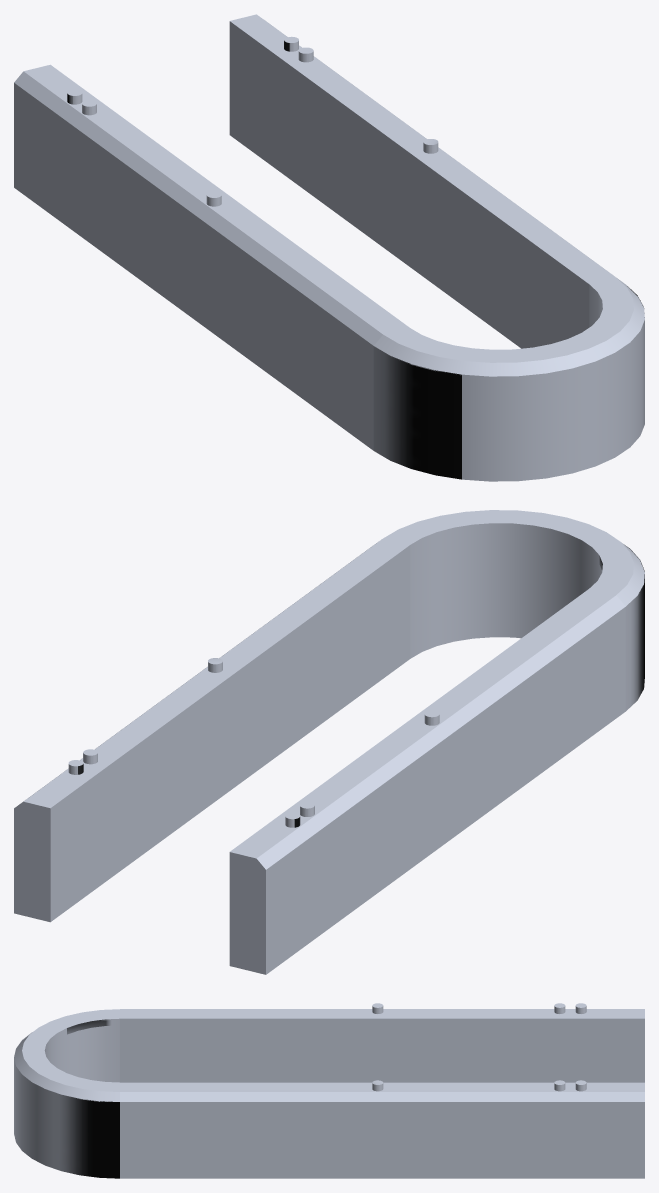
The model's file is bar.fbx.
The picture shows the model from 3 angles, top to bottom: view 1: azimuth 30°, elevation 25°; view 2: azimuth 150°, elevation 25°; view 3: azimuth 270°, elevation 25°; orthographic projection. The views are drawn at different scales.
Parts seen in each view (by area): view 1: Bar; view 2: Bar; view 3: Bar.
Part boxes in pixels (x1,y1,x2,y2): Bar: [14, 14, 644, 481]; Bar: [14, 510, 644, 974]; Bar: [14, 1003, 644, 1178].
Size of the model in its own units: 8752 by 4070 by 26010.
1 material, 1 textured.
